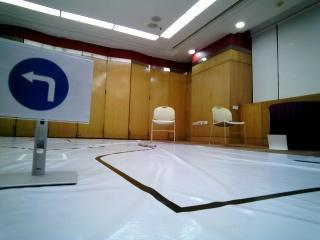left: (6, 47, 81, 122)
